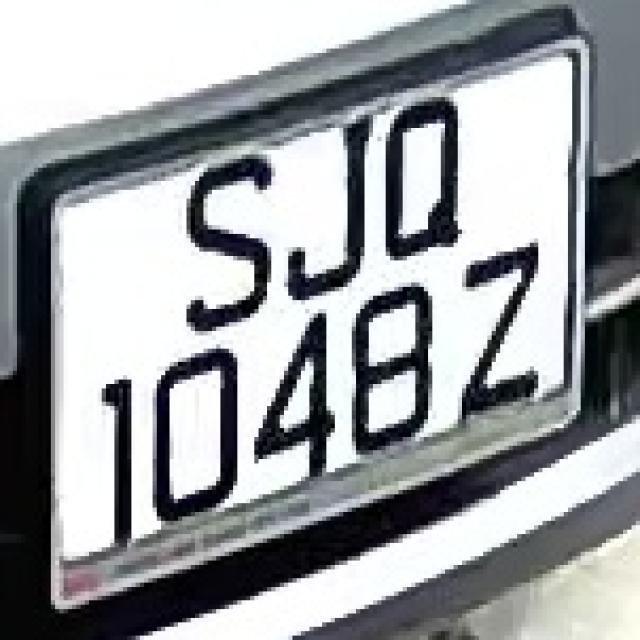0: (144, 340, 246, 521)
1: (85, 367, 148, 560)
4: (250, 336, 343, 494)
8: (339, 278, 449, 477)
J: (284, 92, 390, 318)
Q: (369, 79, 483, 265)
S: (174, 137, 280, 340)
Z: (454, 234, 555, 450)
